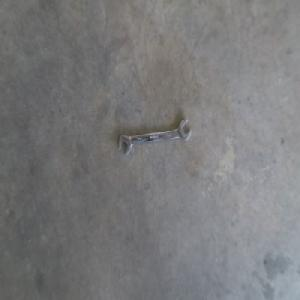Wrench: (118, 119, 192, 155)
